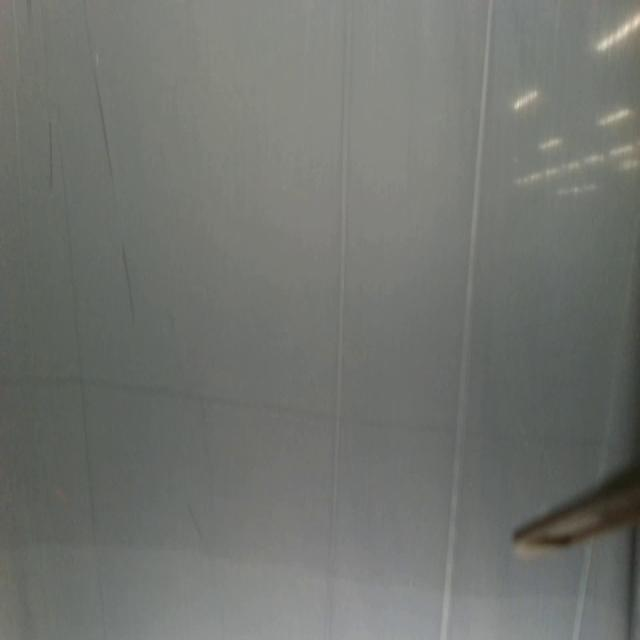color bleeding: (0, 372, 511, 602)
crease: (439, 0, 495, 640), (60, 149, 109, 640), (324, 0, 354, 637), (13, 87, 27, 285), (572, 540, 594, 640), (93, 71, 113, 178), (122, 247, 134, 324), (47, 119, 56, 197)
